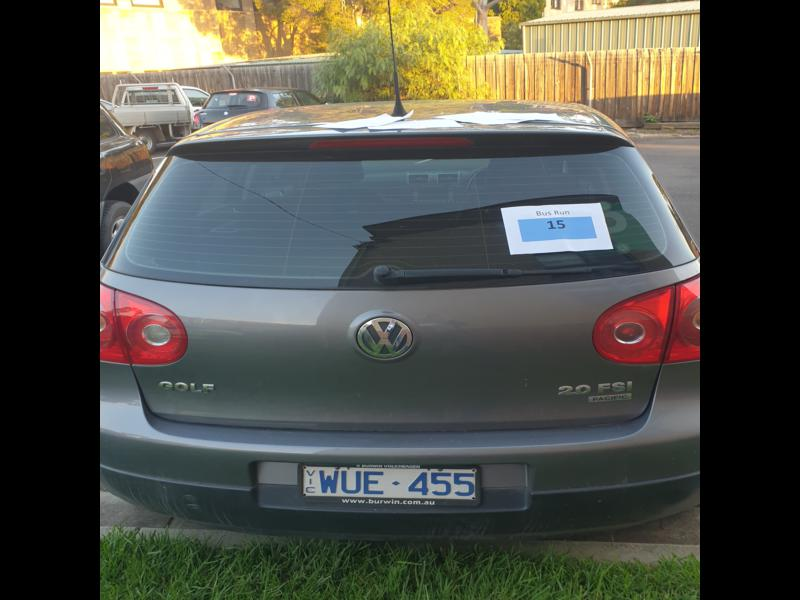BusRun: (517, 217, 600, 242)
PlateNo: (298, 463, 479, 498)
